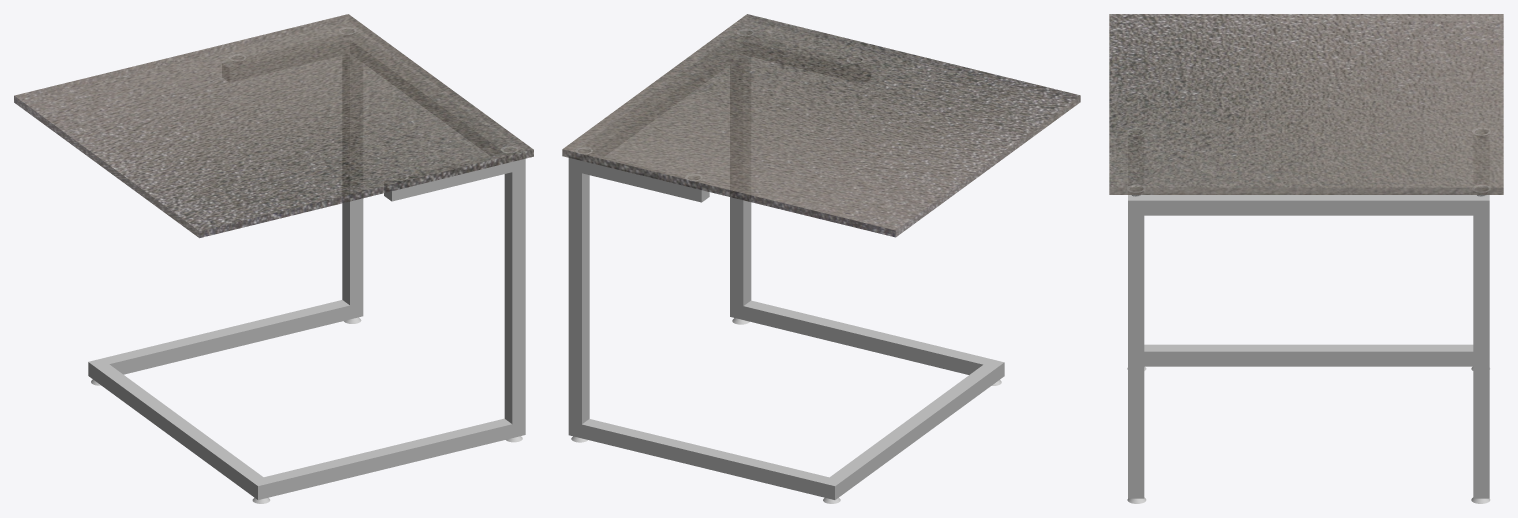
The model's file is endTable.fbx.
3 renders of one model, left to right at view 1: azimuth 30°, elevation 25°; view 2: azimuth 150°, elevation 25°; view 3: azimuth 270°, elevation 25°, orthographic. The views are drawn at different scales.
Parts seen in each view (by area): view 1: support-t0, support-ta; view 2: support-t0, support-ta; view 3: support-t0, support-ta.
Boxes of the visible parts, <box> form: support-t0: <box>14,14,533,238</box>; support-ta: <box>88,32,525,499</box>; support-t0: <box>562,14,1080,237</box>; support-ta: <box>568,34,1004,499</box>; support-t0: <box>1109,14,1503,194</box>; support-ta: <box>1128,135,1489,498</box>.
Bounding box in the file's own units: 1.97 × 1.67 × 1.89.
